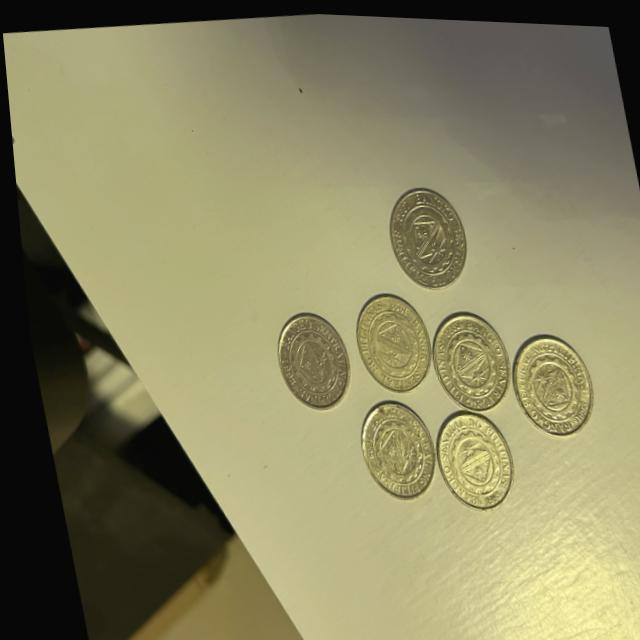1_Old_Back: (388, 187, 456, 275), (430, 413, 501, 497), (511, 337, 581, 422), (430, 319, 498, 396), (275, 319, 338, 396), (355, 303, 417, 376), (360, 410, 420, 485)
